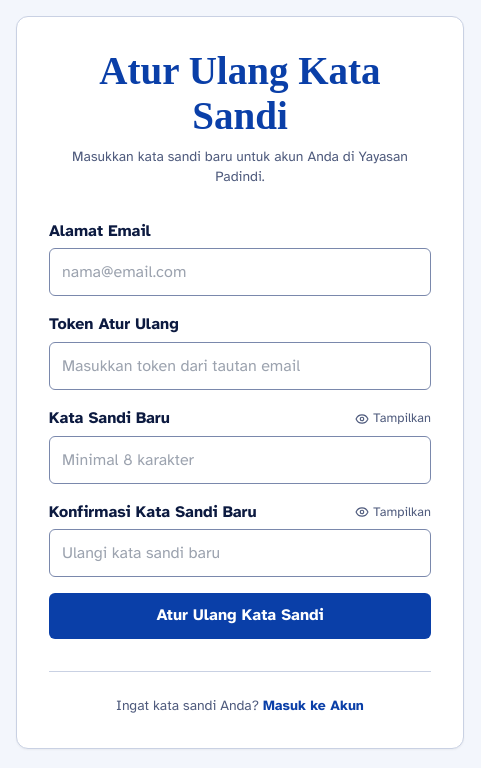
Scenario: ResetPasswordPage › memvalidasi kolom kosong dan konfirmasi kata sandi tidak cocok
Step 1. Click the button "Atur Ulang Kata Sandi" → (240, 616), box [49,593,431,639]
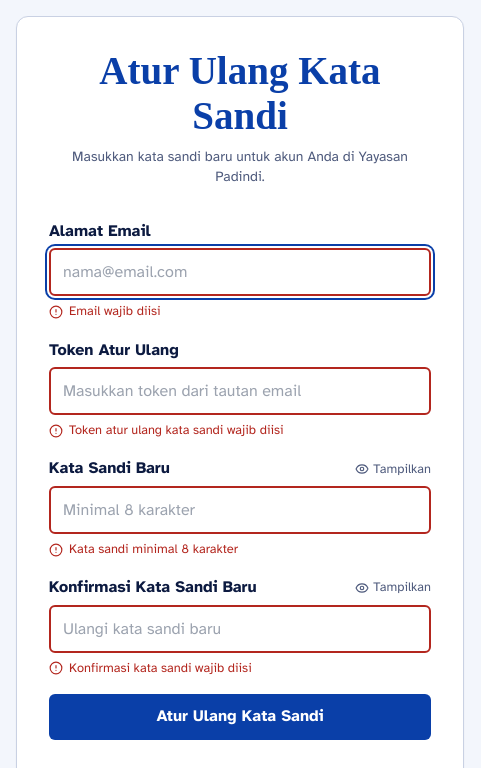
Result: the text "Email wajib diisi" is shown at [69,302,161,322]
Result: the text "Token atur ulang kata sandi wajib diisi" is shown at [69,421,284,440]
